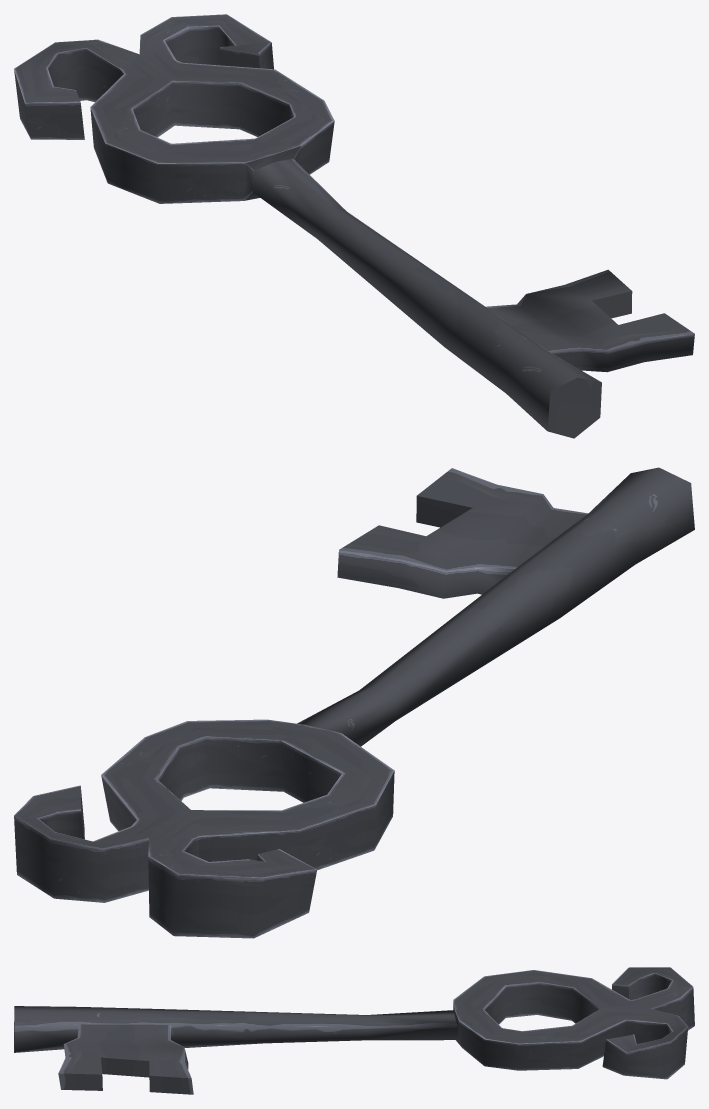
Rendered from SM_PROP_key_dungeon_02.fbx.
3 renders of one model, top to bottom at view 1: azimuth 30°, elevation 25°; view 2: azimuth 150°, elevation 25°; view 3: azimuth 270°, elevation 25°, orthographic. The views are drawn at different scales.
Visible parts, largest first — view 1: SM_PROP_key_dungeon_02; view 2: SM_PROP_key_dungeon_02; view 3: SM_PROP_key_dungeon_02.
Part boxes in pixels (left/top/right/bottom): SM_PROP_key_dungeon_02: left=14, top=14, right=694, bottom=438; SM_PROP_key_dungeon_02: left=14, top=467, right=694, bottom=938; SM_PROP_key_dungeon_02: left=14, top=967, right=694, bottom=1094.
Size of the model in its own units: 9.3 by 2.21 by 26.74.
